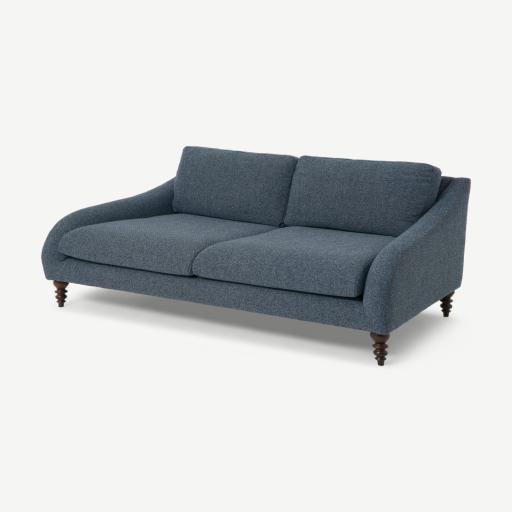back_cushion: (172, 147, 441, 236)
base: (49, 258, 377, 331)
left_arm: (363, 177, 470, 334)
legs: (371, 332, 389, 366), (53, 281, 69, 307), (440, 291, 454, 317)
right_arm: (42, 178, 175, 278)
seat_cushion: (58, 213, 393, 298)
two-seater: (0, 0, 511, 512)
